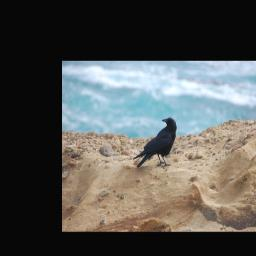Crow: (133, 115, 177, 170)
